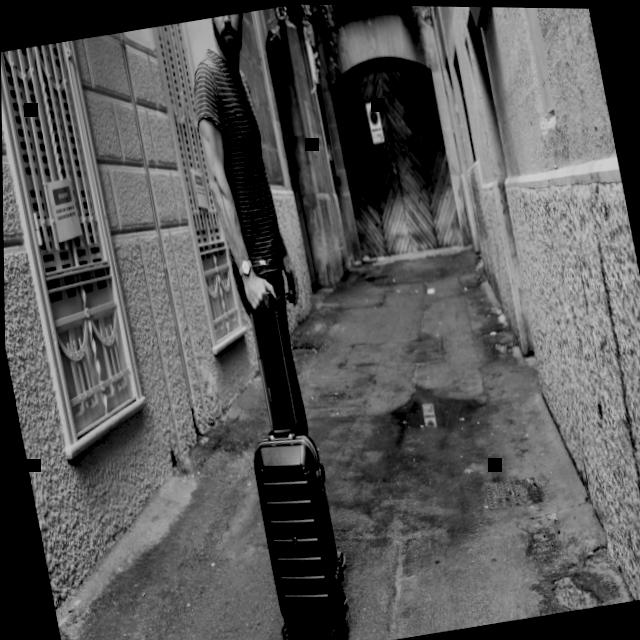luggage: (239, 413, 356, 640)
